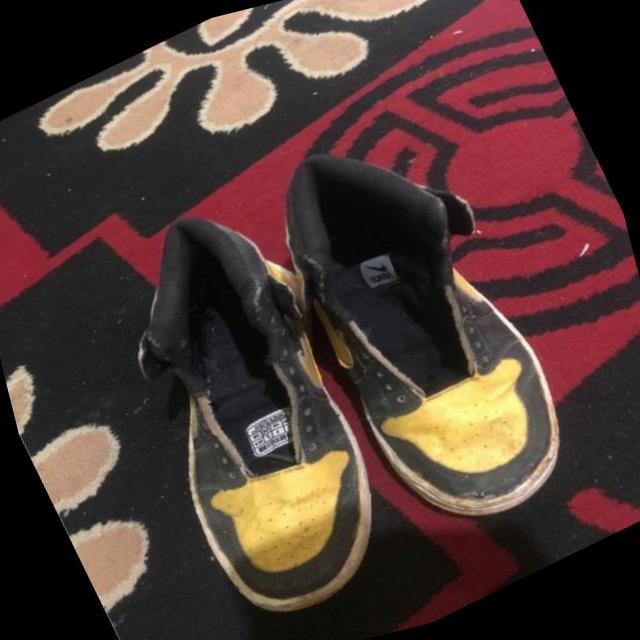nike_fake_jordan: (231, 79, 607, 578), (54, 157, 436, 640)
